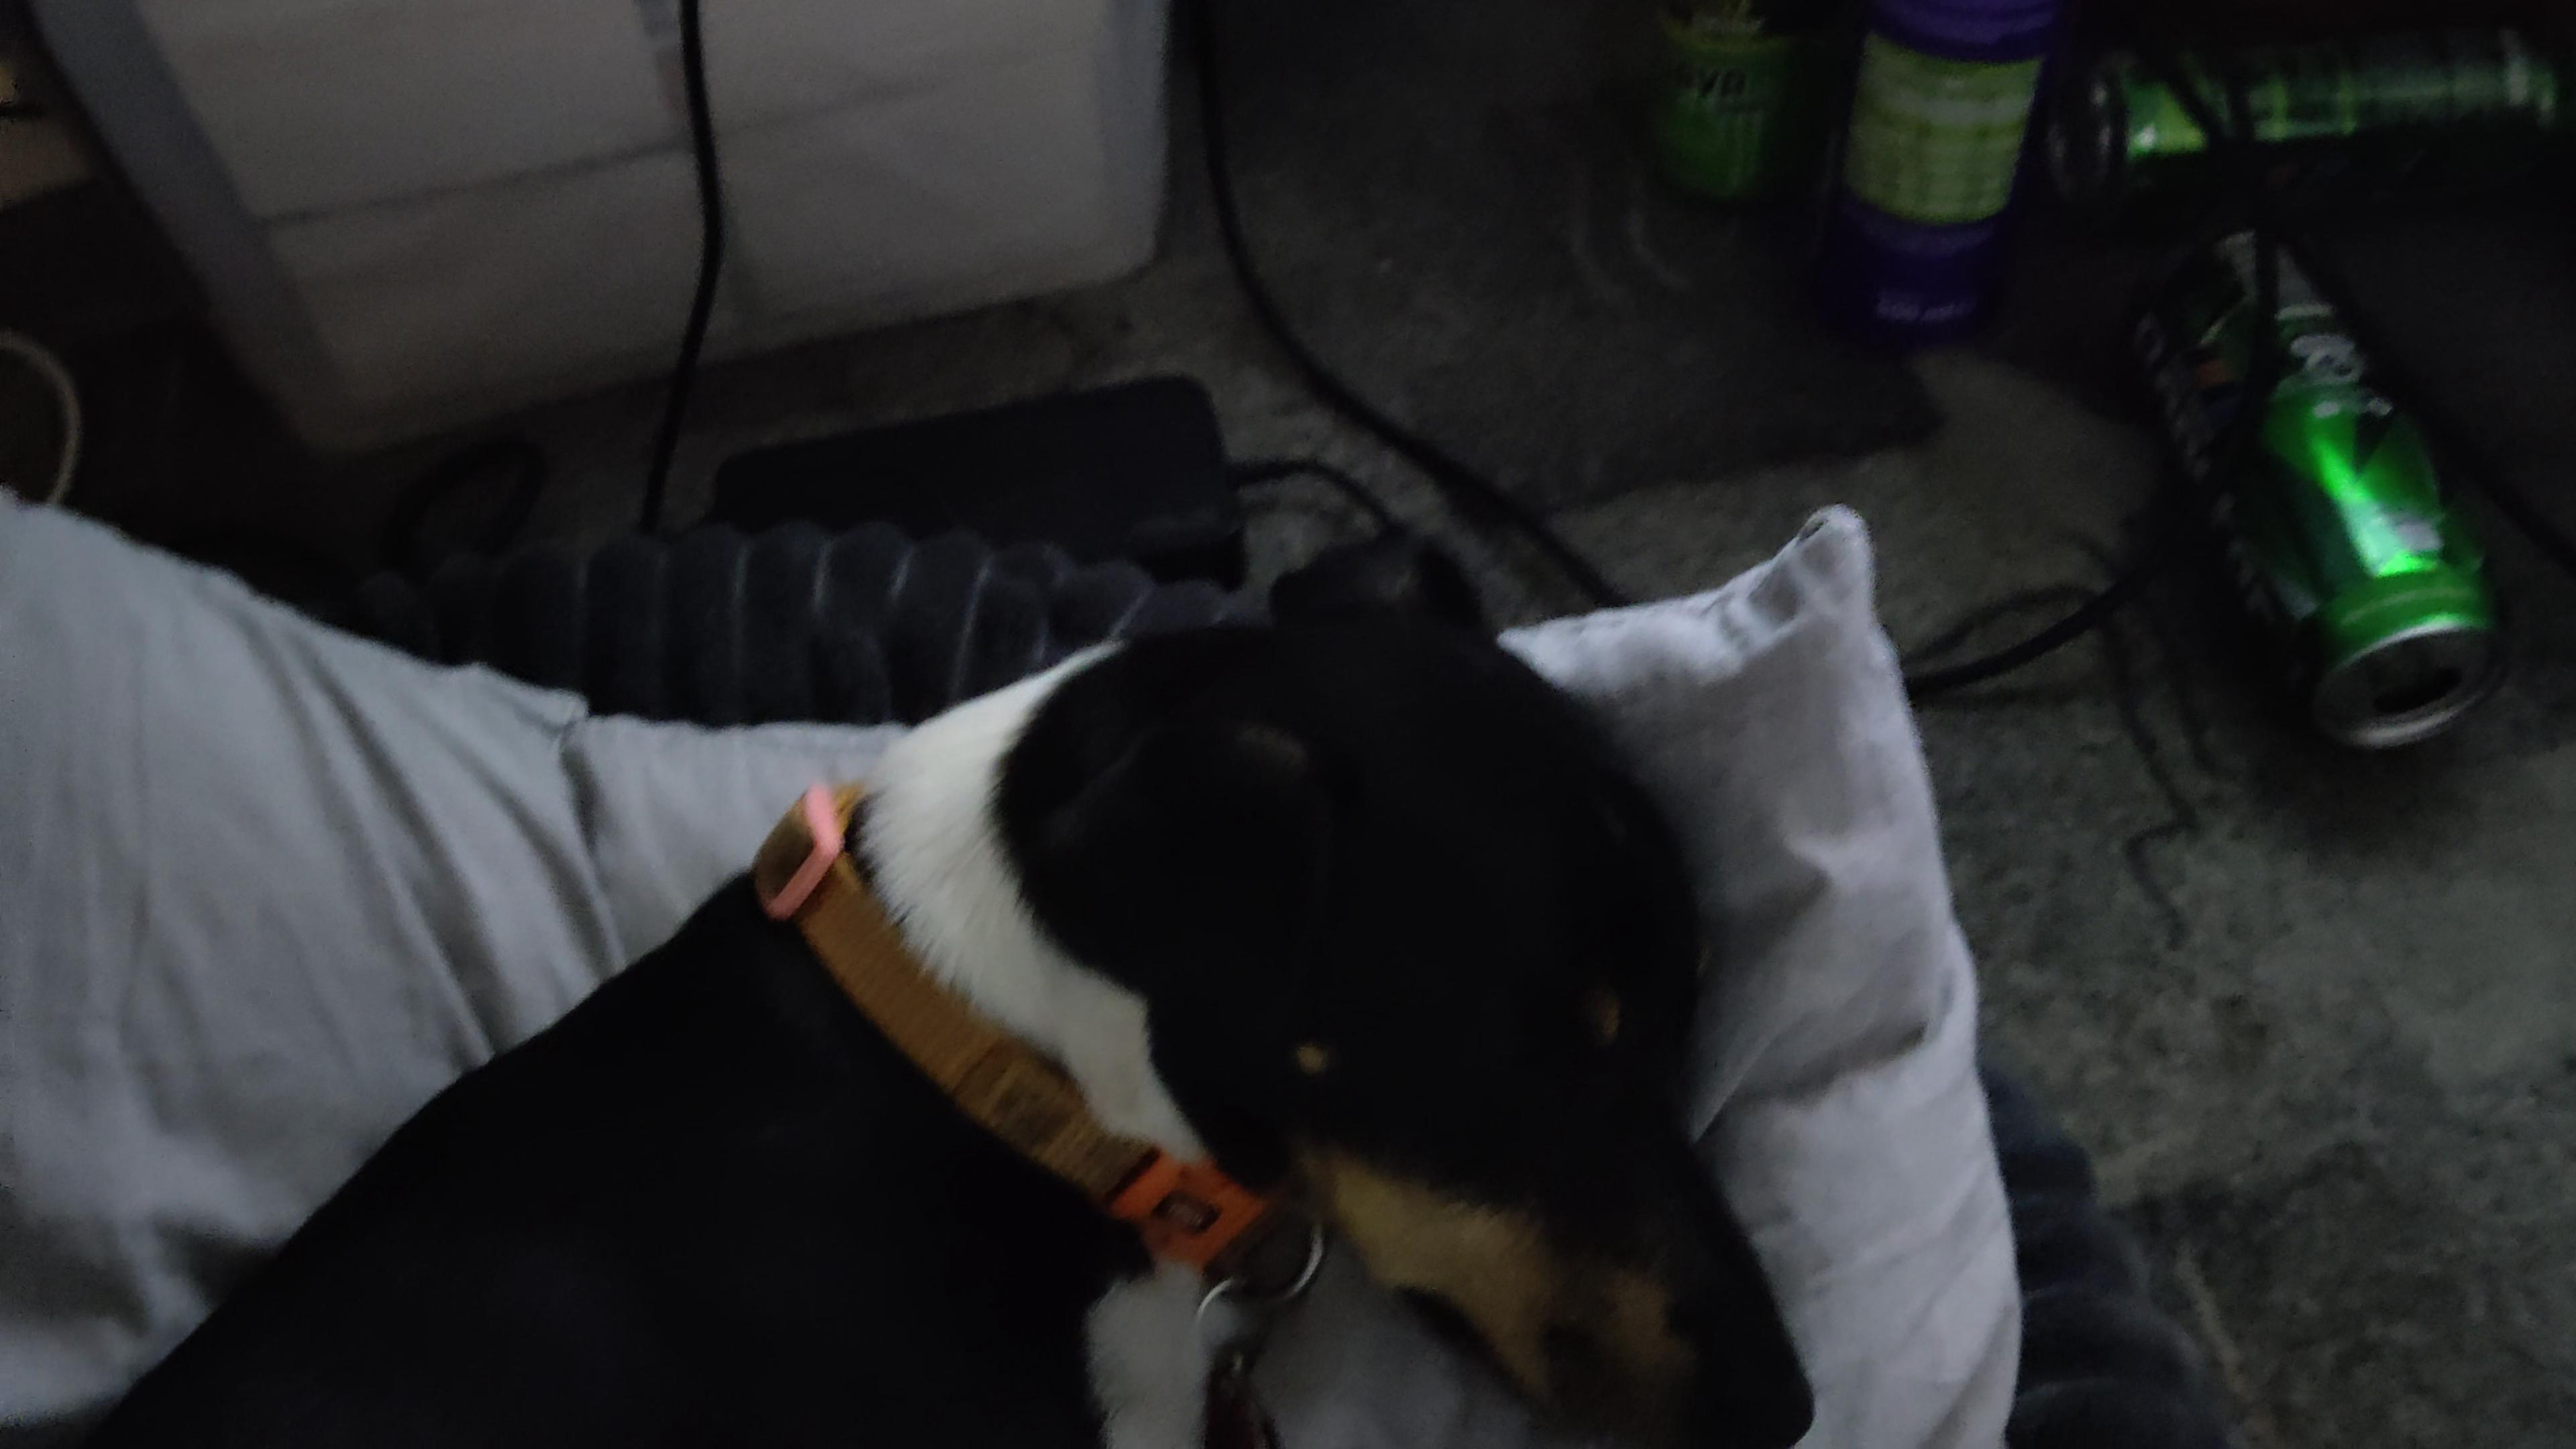Dog: (78, 513, 1824, 1449)
